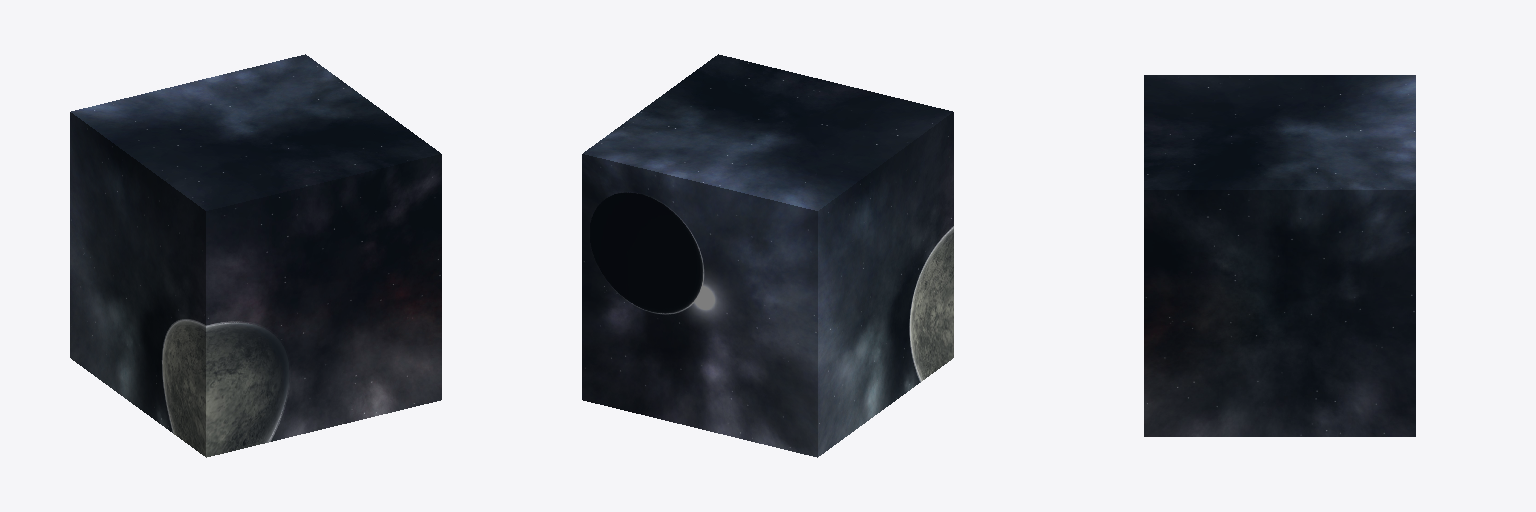
The picture shows the model from 3 angles: view 1: azimuth 30°, elevation 25°; view 2: azimuth 150°, elevation 25°; view 3: azimuth 270°, elevation 25°; orthographic projection.
Parts seen in each view (by area): view 1: front, right, top; view 2: back, right, top; view 3: left, top.
Part boxes in pixels (bbox=[...]): front: bbox=[206, 154, 441, 457]; right: bbox=[70, 112, 205, 456]; top: bbox=[71, 54, 440, 210]; back: bbox=[582, 154, 817, 457]; right: bbox=[818, 112, 953, 456]; top: bbox=[583, 54, 952, 210]; left: bbox=[1144, 190, 1415, 436]; top: bbox=[1144, 75, 1415, 189].
Size of the model in its own units: 2 by 2 by 2.
6 materials, 6 textured.